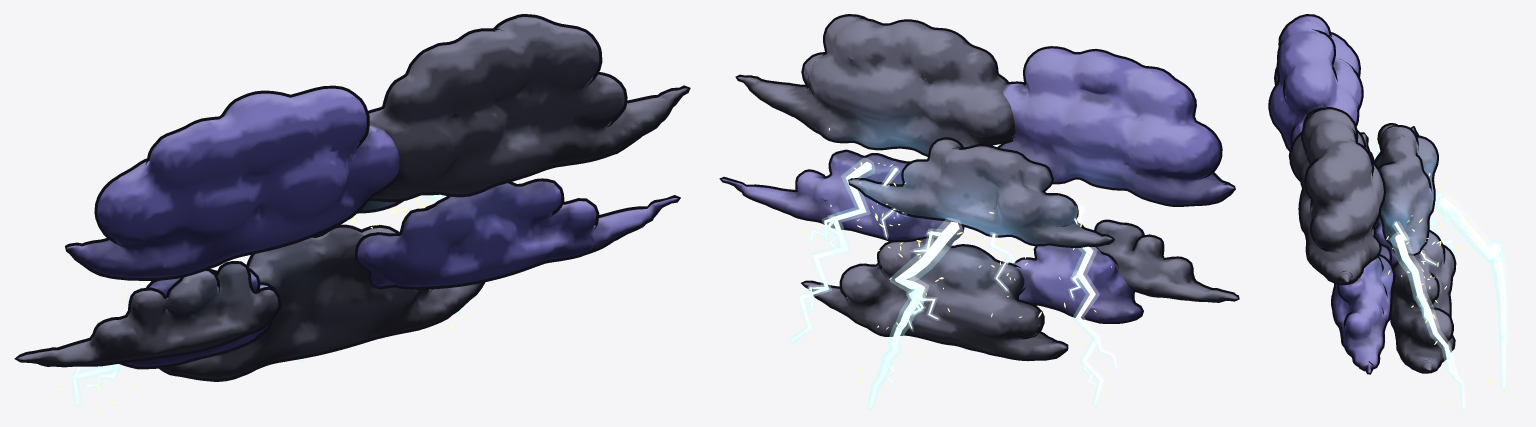
File: obstacle_storm_cloud.glb
3 renders of one model, left to right at view 1: azimuth 30°, elevation 25°; view 2: azimuth 150°, elevation 25°; view 3: azimuth 270°, elevation 25°, orthographic. The views are drawn at different scales.
Parts seen in each view (by area): view 1: Clouds, Bolt_4; view 2: Clouds, Bolt_3, Bolt_1, Bolt_4, Bolt_5, Bolt_2; view 3: Clouds, Bolt_3, Bolt_1, Bolt_2, Bolt_4.
Part boxes in pixels (box(x1,y1,x2,y2)): Clouds: box(14, 14, 690, 381); Bolt_4: box(60, 280, 146, 412); Clouds: box(719, 14, 1239, 361); Bolt_3: box(842, 218, 963, 411); Bolt_1: box(778, 128, 892, 343); Bolt_4: box(1038, 191, 1117, 408); Bolt_5: box(967, 212, 1030, 317); Bolt_2: box(854, 163, 907, 250); Clouds: box(1268, 14, 1456, 374); Bolt_3: box(1435, 194, 1521, 394); Bolt_1: box(1386, 215, 1479, 411); Bolt_2: box(1388, 218, 1446, 289); Bolt_4: box(1373, 137, 1457, 266).
Bounding box in the file's own units: 18.25 × 10.64 × 8.21.
